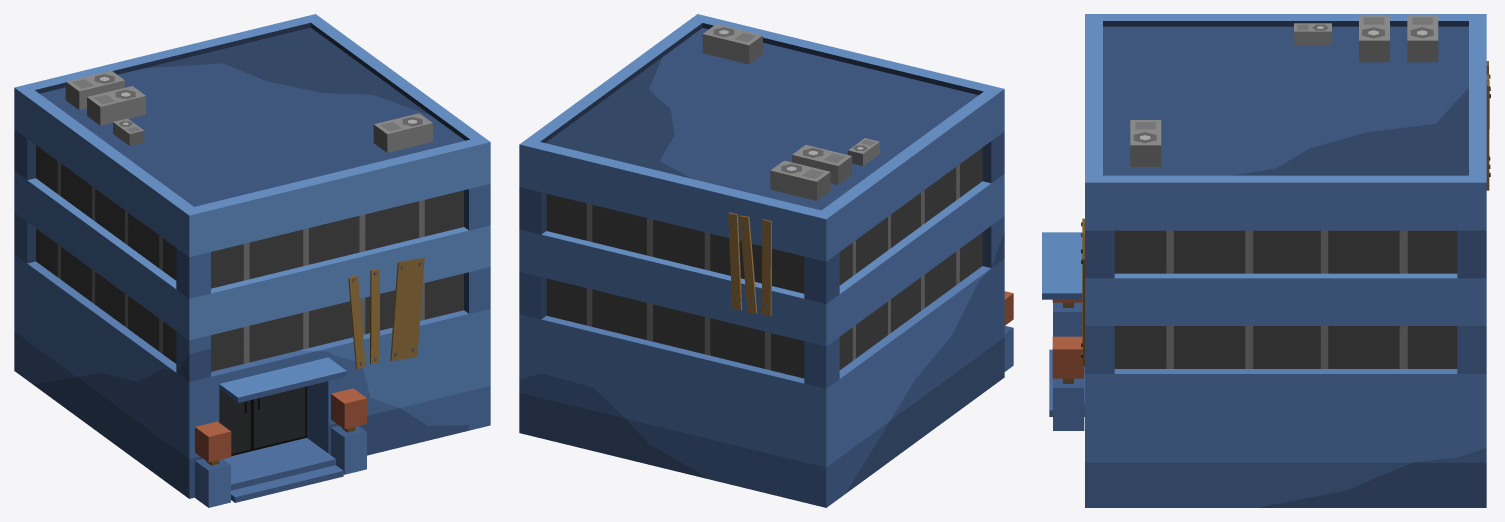
The model's file is SA_Bld_OfficeBlue_01.gltf.
3 views of the same model, side by side, from view 1: azimuth 30°, elevation 25°; view 2: azimuth 150°, elevation 25°; view 3: azimuth 270°, elevation 25° (orthographic). The views are drawn at different scales.
Parts seen in each view (by area): view 1: SA_Bld_OfficeBlue_01; view 2: SA_Bld_OfficeBlue_01; view 3: SA_Bld_OfficeBlue_01.
Part boxes in pixels (x1,y1,x2,y2): SA_Bld_OfficeBlue_01: (14, 14, 490, 507); SA_Bld_OfficeBlue_01: (519, 14, 1013, 507); SA_Bld_OfficeBlue_01: (1042, 14, 1490, 507).
Size of the model in its own units: 13.62 by 12.84 by 15.31.
Materials: 1 (1 with a texture image).
